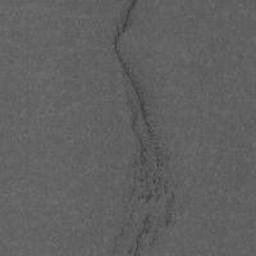Inclusion: (109, 0, 177, 256)
